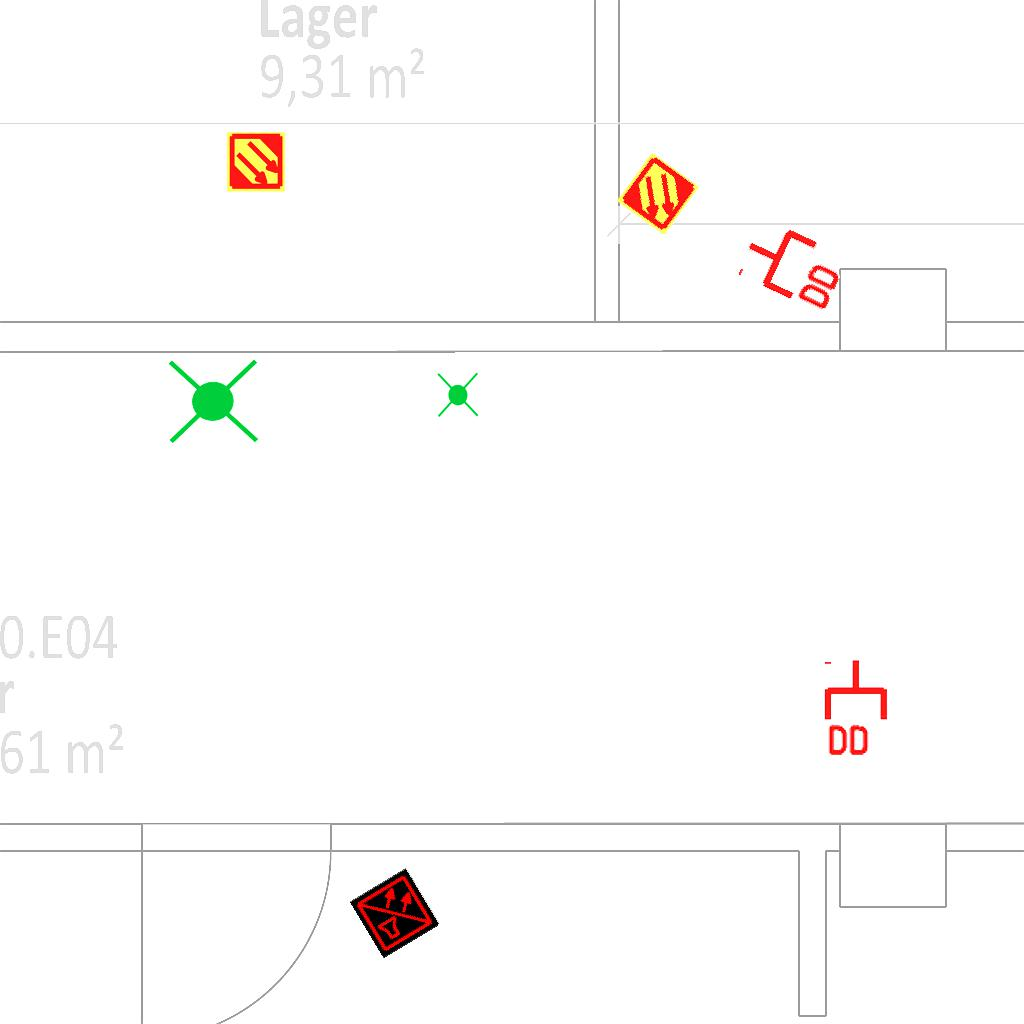ASR_Ansaugrauchmelder: (614, 150, 702, 238), (225, 131, 287, 193)
Datenanschluss_zweifach: (733, 211, 856, 318), (823, 657, 892, 760)
Notlichtbaustein_in_Allgemeinbeleuchtug_engebaut_Einbau_(1UG_und_2UG_Aufbauvaria: (163, 351, 263, 454), (433, 370, 484, 420)
OKW_Multisensormelder_(Kombination_optischer_Rauch-Kahlenmonoxid_Waerme-Melder): (349, 867, 441, 959)
